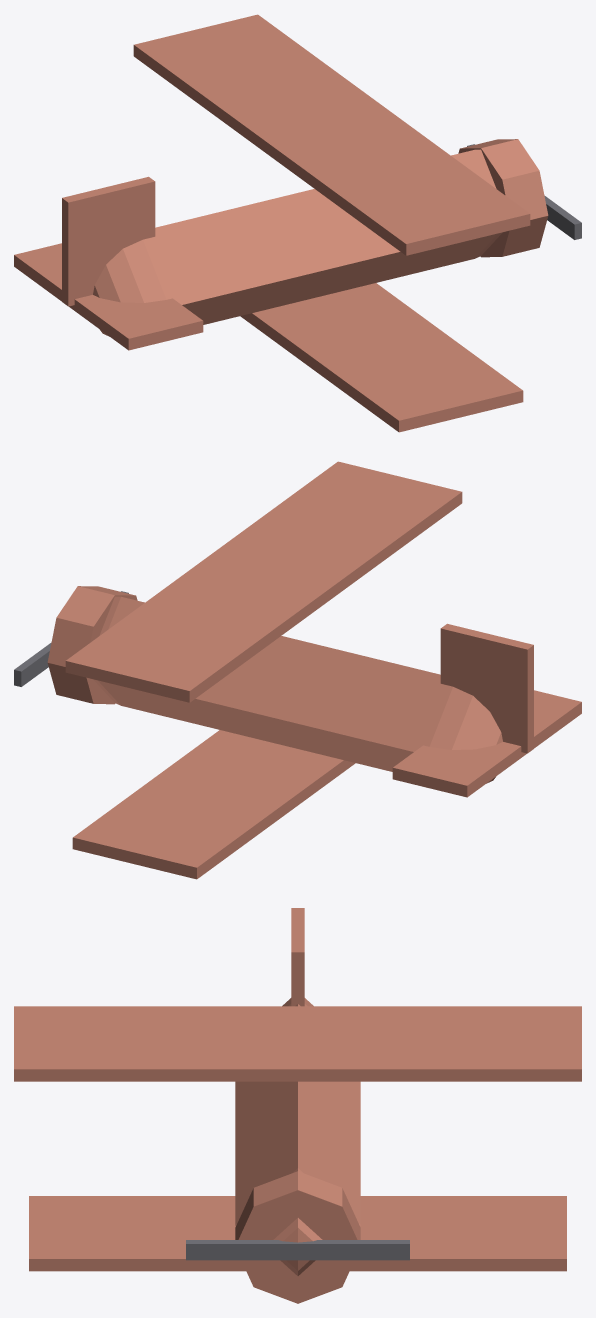
3 views of the same model, one above another, from view 1: azimuth 30°, elevation 25°; view 2: azimuth 150°, elevation 25°; view 3: azimuth 270°, elevation 25° (orthographic). The views are drawn at different scales.
Visible parts, largest first — view 1: part3, part0, part4, part6, part5, part1, part2; view 2: part3, part0, part4, part6, part5, part1, part2; view 3: part3, part4, part0, part1, part2, part6.
Part boxes in pixels (bbox=[...]): part3: bbox=[133, 14, 530, 255]; part0: bbox=[93, 149, 502, 336]; part4: bbox=[240, 283, 523, 432]; part6: bbox=[62, 176, 155, 306]; part5: bbox=[14, 243, 203, 350]; part1: bbox=[458, 139, 548, 257]; part2: bbox=[467, 144, 581, 239]; part3: bbox=[65, 461, 462, 702]; part0: bbox=[93, 596, 502, 783]; part4: bbox=[72, 730, 355, 879]; part6: bbox=[440, 623, 533, 753]; part5: bbox=[392, 690, 581, 797]; part1: bbox=[47, 586, 137, 704]; part2: bbox=[14, 591, 128, 686]; part3: bbox=[14, 1006, 581, 1081]; part4: bbox=[29, 1196, 566, 1271]; part0: bbox=[235, 998, 360, 1275]; part1: bbox=[235, 1171, 360, 1303]; part2: bbox=[186, 1240, 409, 1260]; part6: bbox=[291, 908, 304, 1006].
Size of the model in its own units: 3.73 by 1.49 by 3.8.
